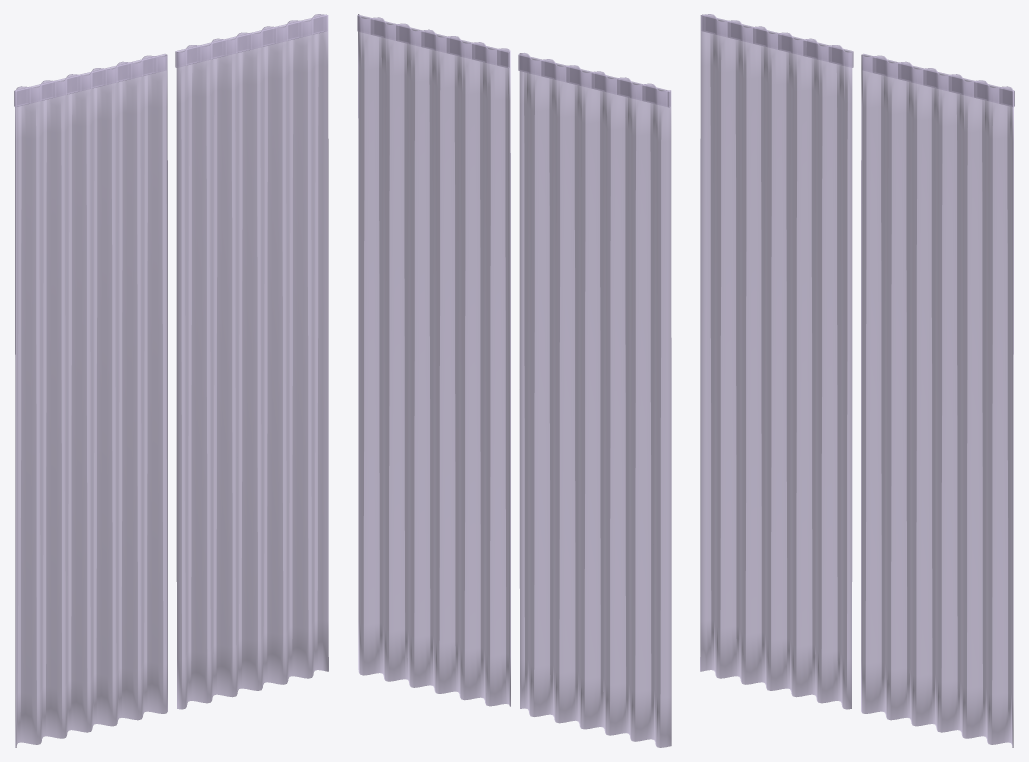
Rendered from curtain_sheer__115.glb.
The picture shows the model from 3 angles, left to right: view 1: azimuth 30°, elevation 25°; view 2: azimuth 150°, elevation 25°; view 3: azimuth 330°, elevation 25°; orthographic projection.
Visible parts, largest first — view 1: curtain_sheer__115; view 2: curtain_sheer__115; view 3: curtain_sheer__115.
Boxes of the visible parts, box(x1,y1,x2,y2) form: curtain_sheer__115: box(14, 14, 328, 747); curtain_sheer__115: box(357, 14, 671, 747); curtain_sheer__115: box(700, 14, 1014, 747).
Size of the model in its own units: 1 by 2 by 0.04.
